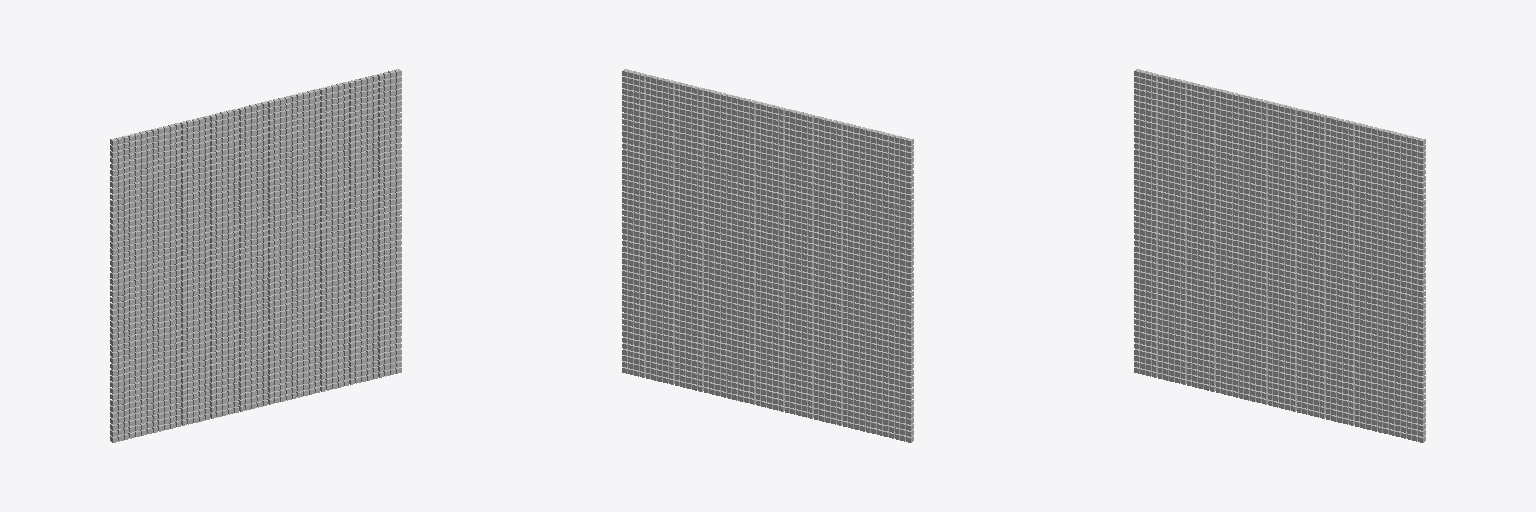
File: physics_stress_test.obj
3 renders of one model, left to right at view 1: azimuth 30°, elevation 25°; view 2: azimuth 150°, elevation 25°; view 3: azimuth 330°, elevation 25°, orthographic.
Visible parts, largest first — view 1: Cube; view 2: Cube; view 3: Cube.
Boxes of the visible parts, <box> form: Cube: <box>110,69,401,442</box>; Cube: <box>622,69,913,442</box>; Cube: <box>1134,69,1425,442</box>.
Bounding box in the file's own units: 124 × 124 × 2.